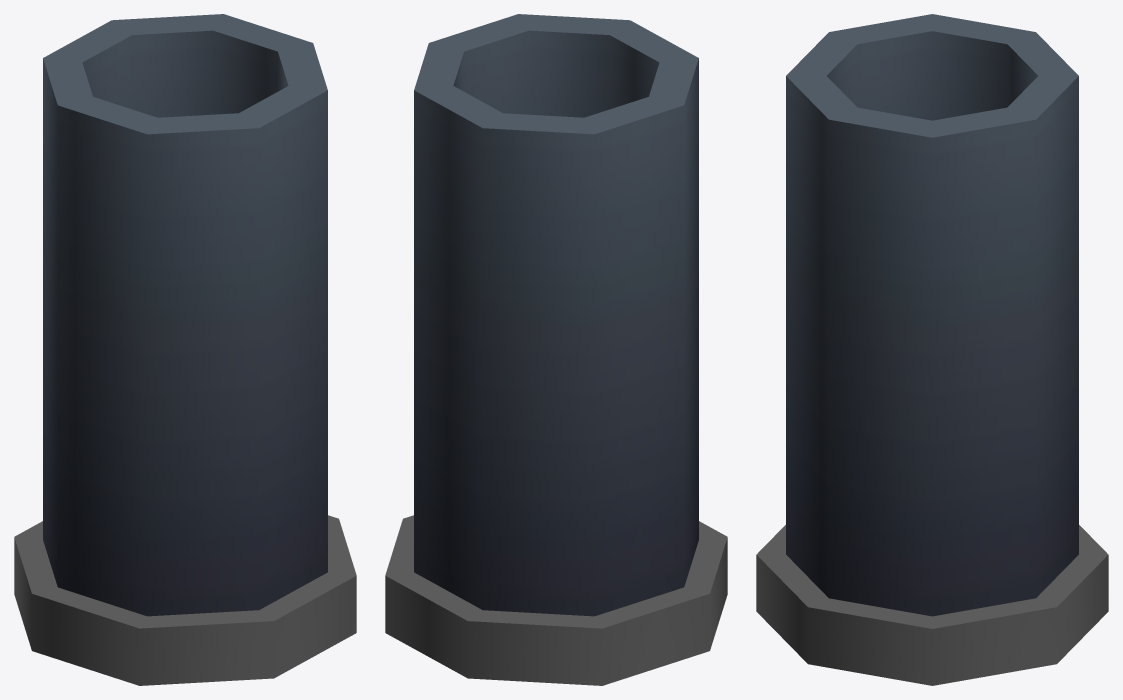
The model's file is Chimney_1_C_2.fbx.
The picture shows the model from 3 angles, left to right: view 1: azimuth 30°, elevation 25°; view 2: azimuth 150°, elevation 25°; view 3: azimuth 270°, elevation 25°; orthographic projection.
Parts seen in each view (by area): view 1: Chimney_1_C_2; view 2: Chimney_1_C_2; view 3: Chimney_1_C_2.
Boxes of the visible parts, x1,y1,x2,y2 form: Chimney_1_C_2: [14, 14, 356, 685]; Chimney_1_C_2: [385, 14, 727, 685]; Chimney_1_C_2: [756, 14, 1108, 685].
Size of the model in its own units: 61.78 by 104 by 61.78.
